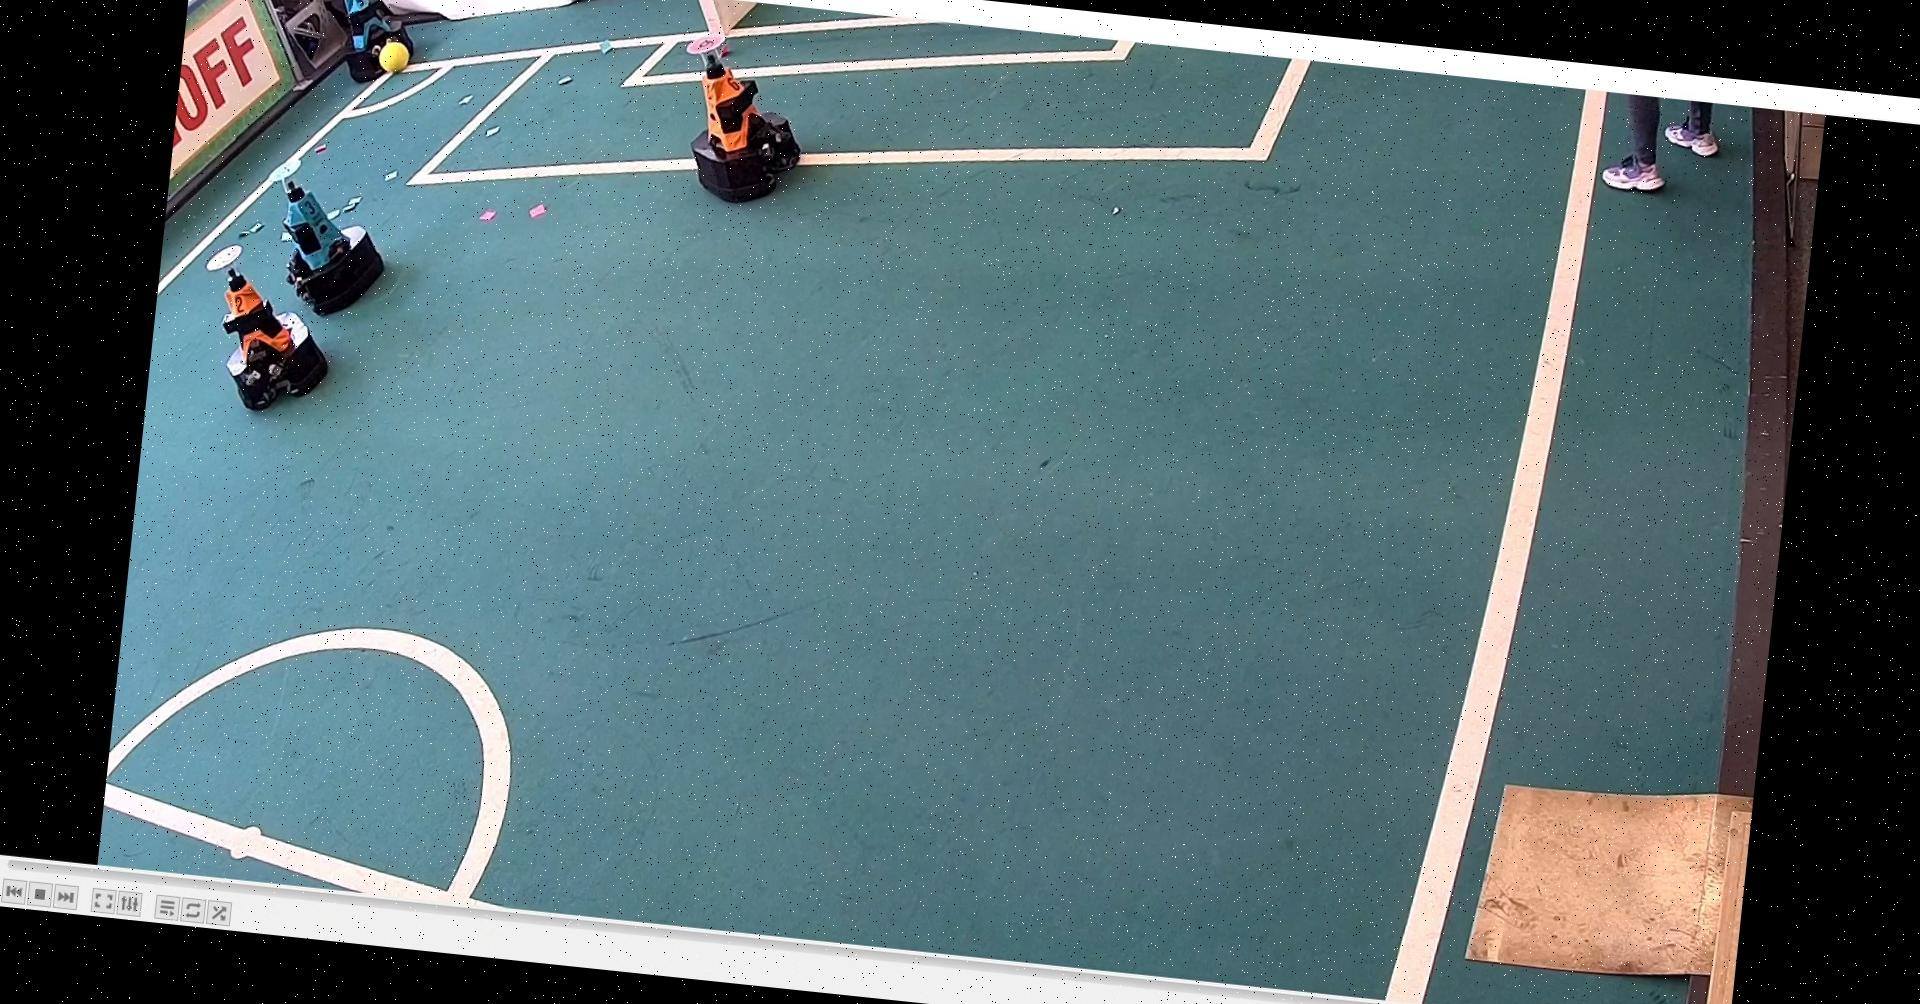Ball: (376, 37, 420, 81)
Team_Blue: (251, 154, 400, 322), (317, 0, 428, 91)
Team_Red: (668, 19, 817, 211), (192, 240, 338, 416)
